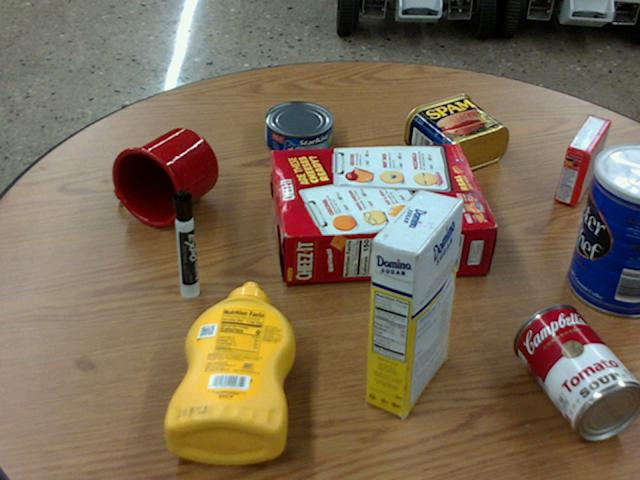cracker_box: (270, 144, 493, 284)
gelatin_box: (555, 116, 609, 206)
large_marker: (173, 188, 197, 297)
master_chef_can: (568, 144, 639, 317)
mug: (111, 127, 217, 226)
mustard_bottle: (165, 281, 294, 462)
potted_meat_can: (404, 94, 508, 173)
sugar_box: (365, 190, 463, 416)
tomato_soup_can: (514, 303, 639, 437)
tuna_fish_can: (265, 100, 333, 156)
